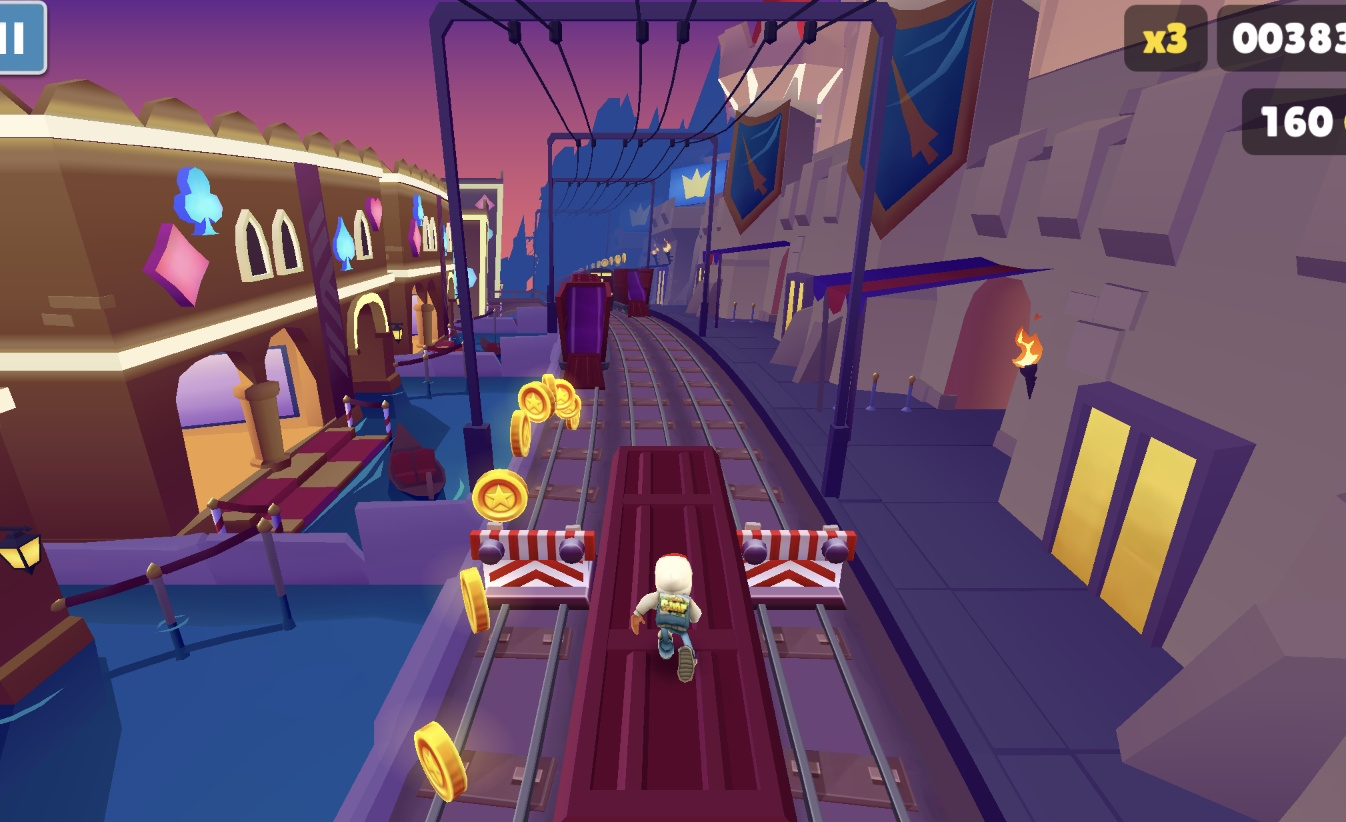ground_barrier: (468, 527, 597, 612), (737, 525, 858, 611)
train: (549, 445, 808, 822), (555, 272, 611, 391), (614, 270, 654, 319), (586, 272, 613, 313)
